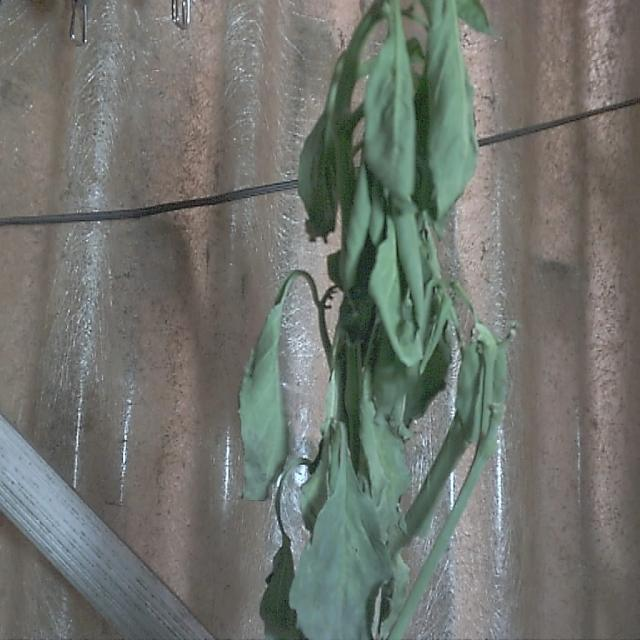Leaf: (292, 481, 388, 640), (426, 8, 475, 210), (240, 301, 288, 504), (364, 29, 417, 206)
